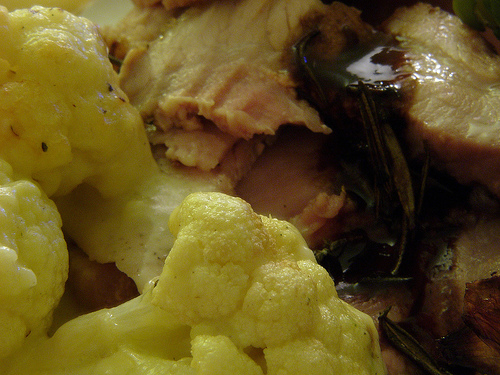cauliflower: (0, 6, 386, 374)
